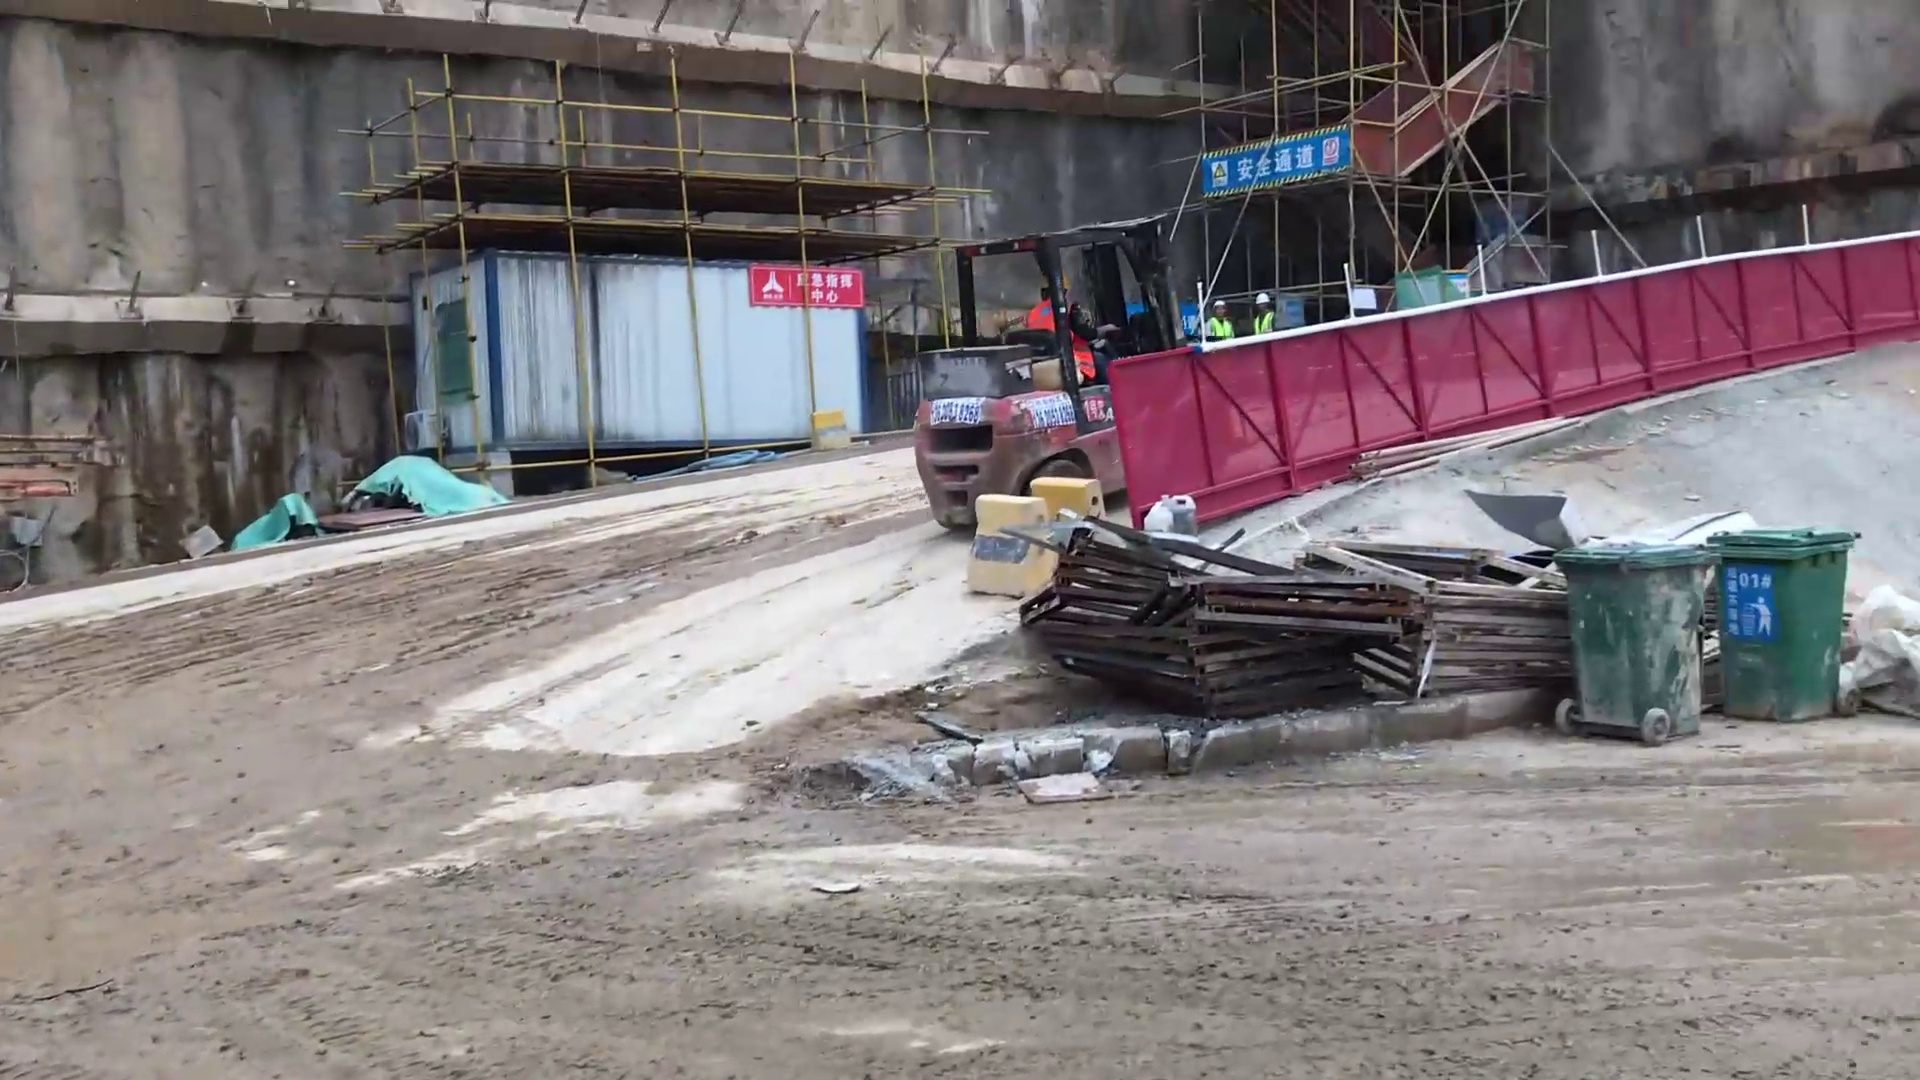fence: (1265, 279, 1596, 500)
helmet: (1255, 292, 1271, 305)
person: (1027, 268, 1111, 379), (1248, 290, 1284, 334), (1205, 296, 1238, 339)
slogan: (1196, 129, 1355, 185), (748, 259, 869, 322)
vest: (1028, 299, 1098, 375), (1204, 317, 1237, 340), (1251, 310, 1276, 333)
